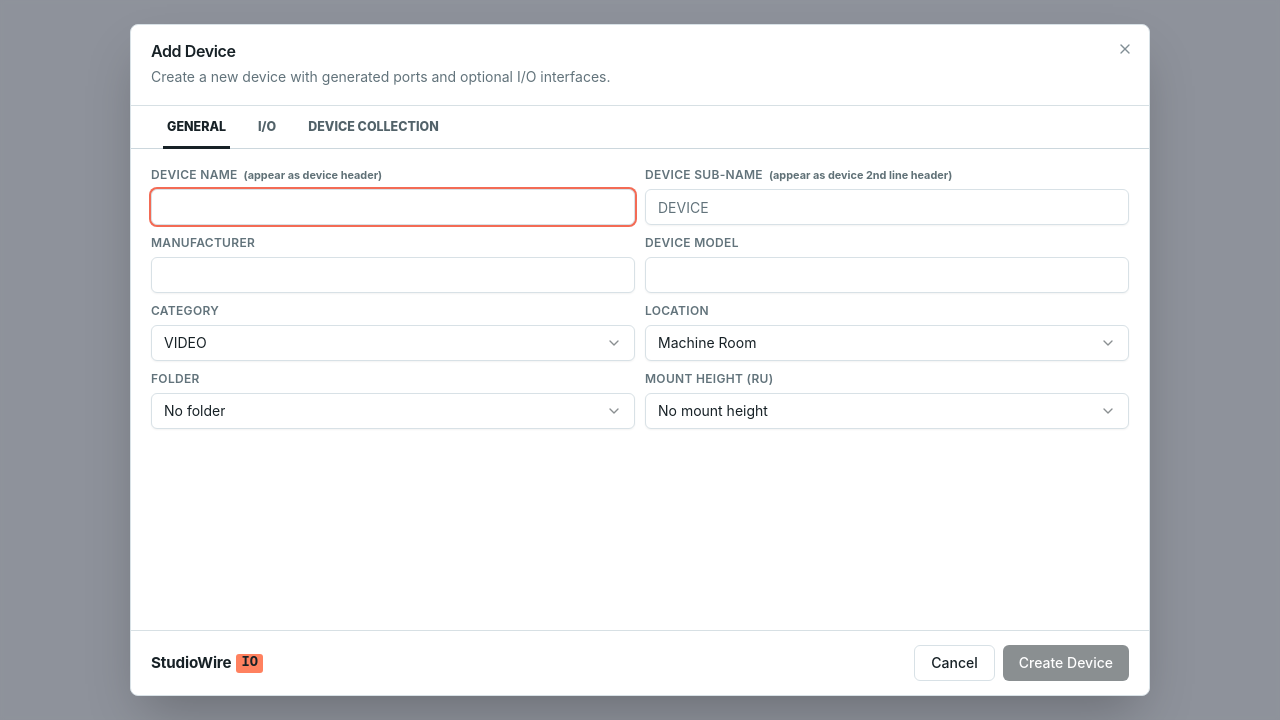
AddDeviceModal › loads a compatible collection template into the form without creating a device
Click the tab "Device Collection" at (373, 127), box [292,106,455,148]
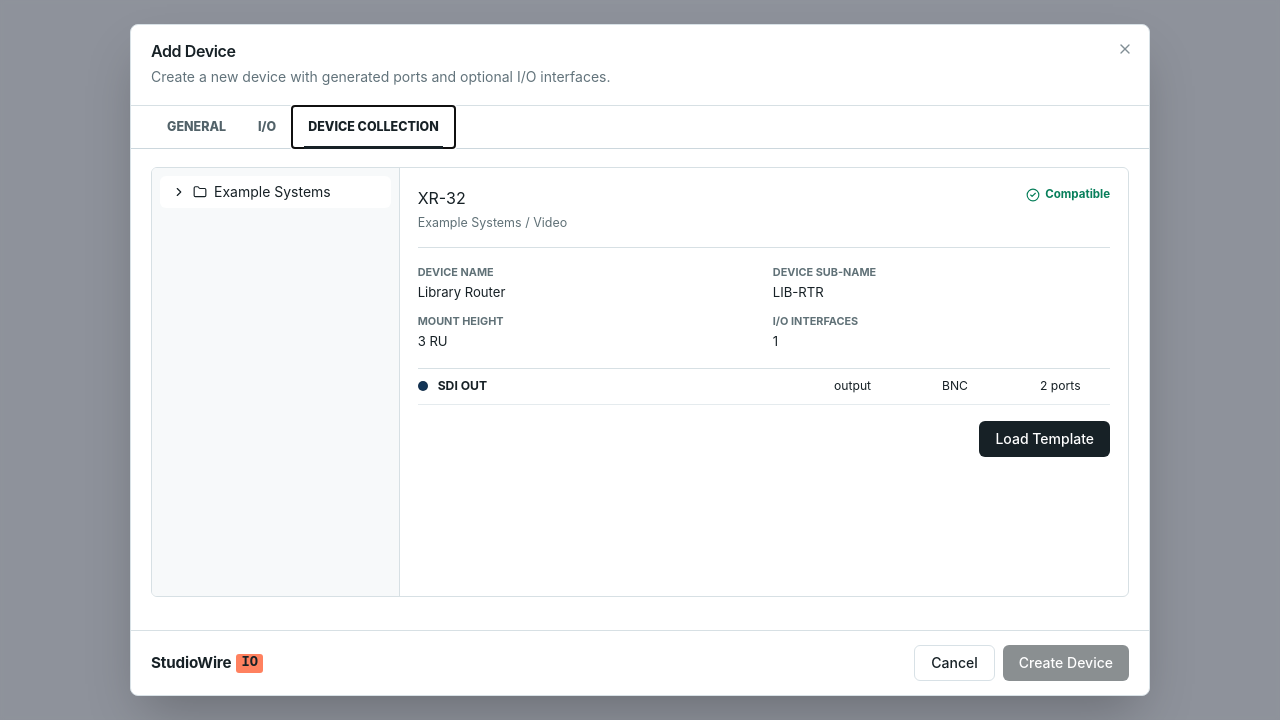
Click the button "Load Template" at (1045, 439), box [980,421,1110,457]
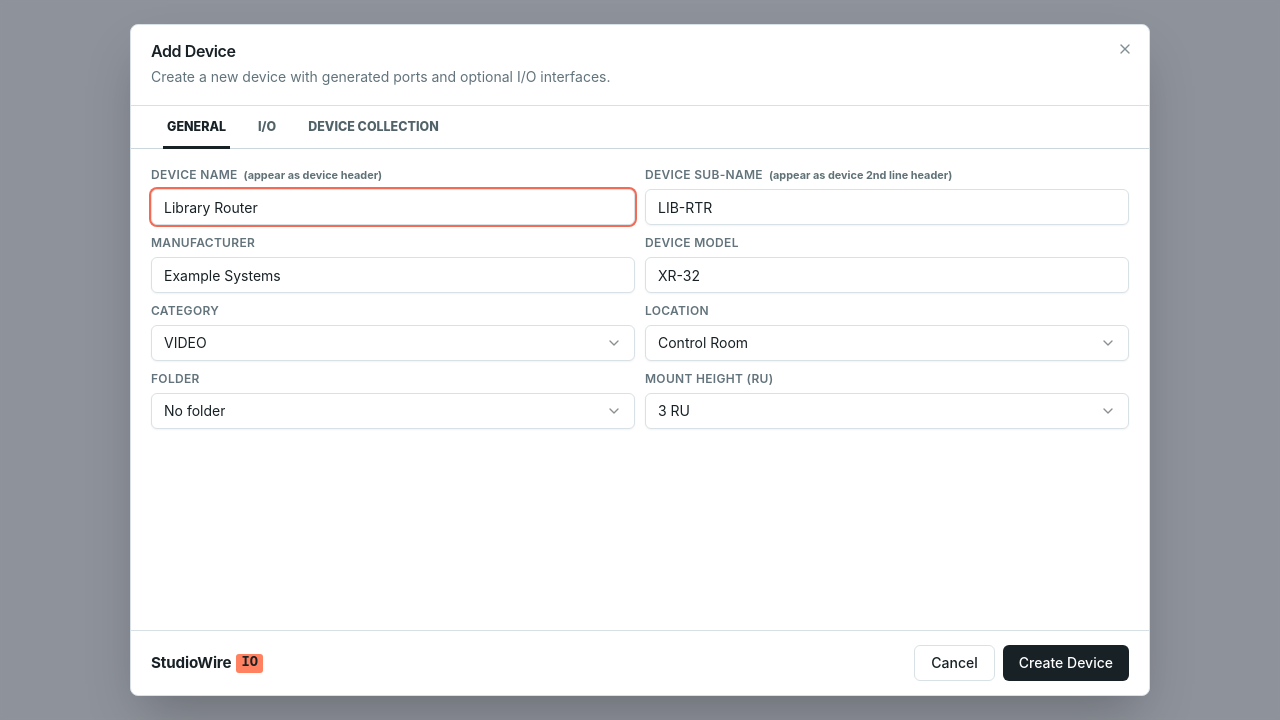
Expected: the field labelled "Device Name (appear as device header)" holds "Library Router", [151,189,635,225]
Expected: the field labelled "Device sub-name (appear as device 2nd line header)" holds "LIB-RTR", [645,189,1129,225]
Expected: the field labelled "Device model" holds "XR-32", [645,257,1129,293]
Click the tab "I/O" at (267, 127), box [242,106,292,148]
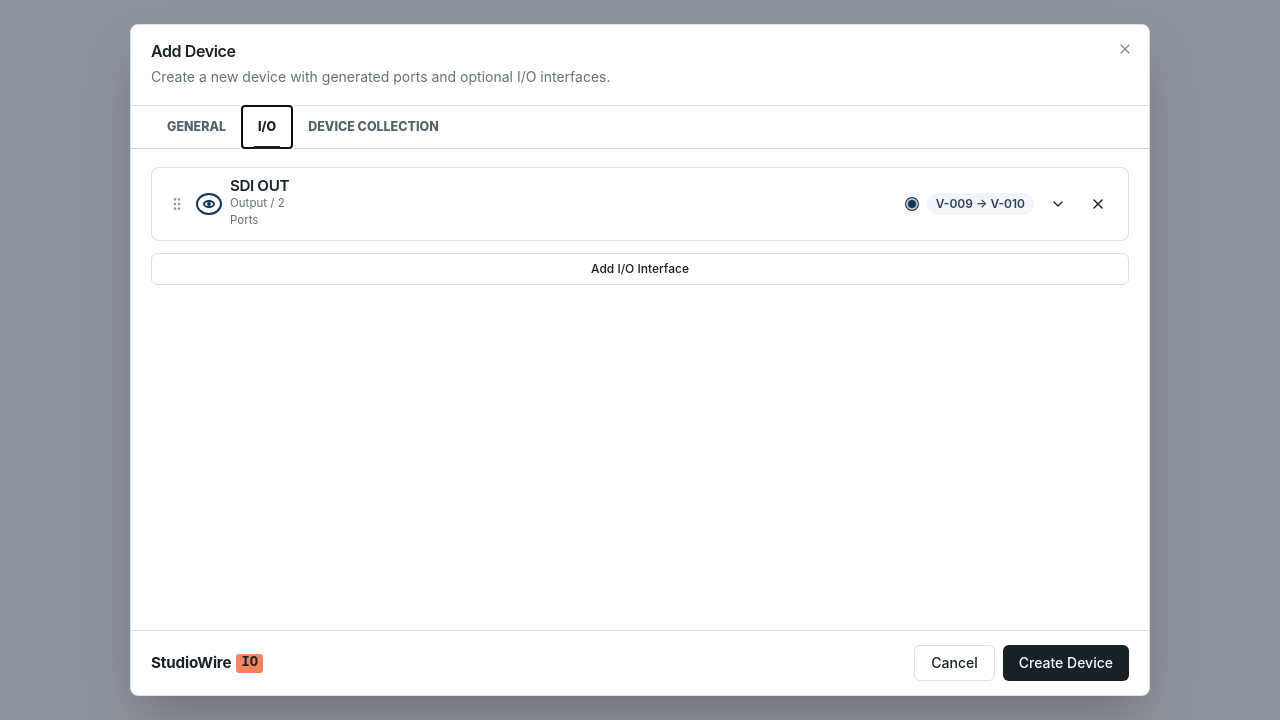
Expected: the button named "Expand SDI OUT" is shown
Click the button named "Expand SDI OUT" at (1058, 204), box [1042,188,1074,220]
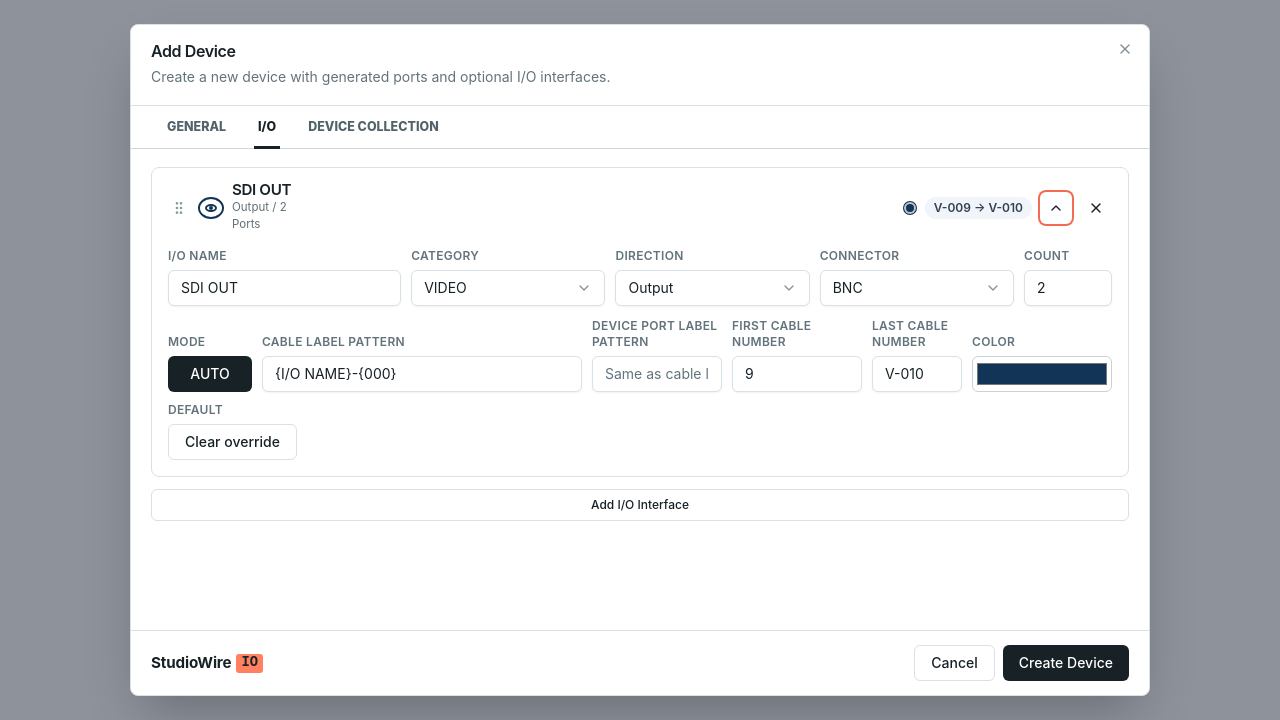
Expected: the field labelled "I/O Name" holds "SDI OUT", [168,270,401,306]
Expected: the colour field labelled "Color" holds "#123456", [972,356,1112,392]
